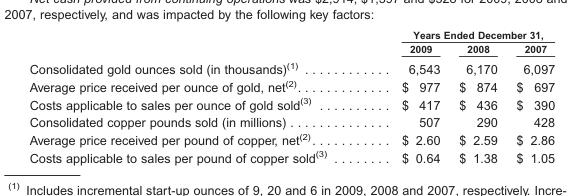table: (28, 28, 554, 164)
table column: (28, 28, 363, 164), (363, 28, 448, 164), (448, 28, 506, 164), (506, 28, 554, 164)
table column header: (28, 28, 554, 57)
table row: (28, 57, 554, 76), (28, 94, 554, 113), (28, 76, 554, 94), (28, 129, 554, 147), (28, 147, 554, 164), (28, 41, 554, 57), (28, 113, 554, 129), (28, 28, 554, 41)
table spanning cell: (363, 28, 554, 41)
